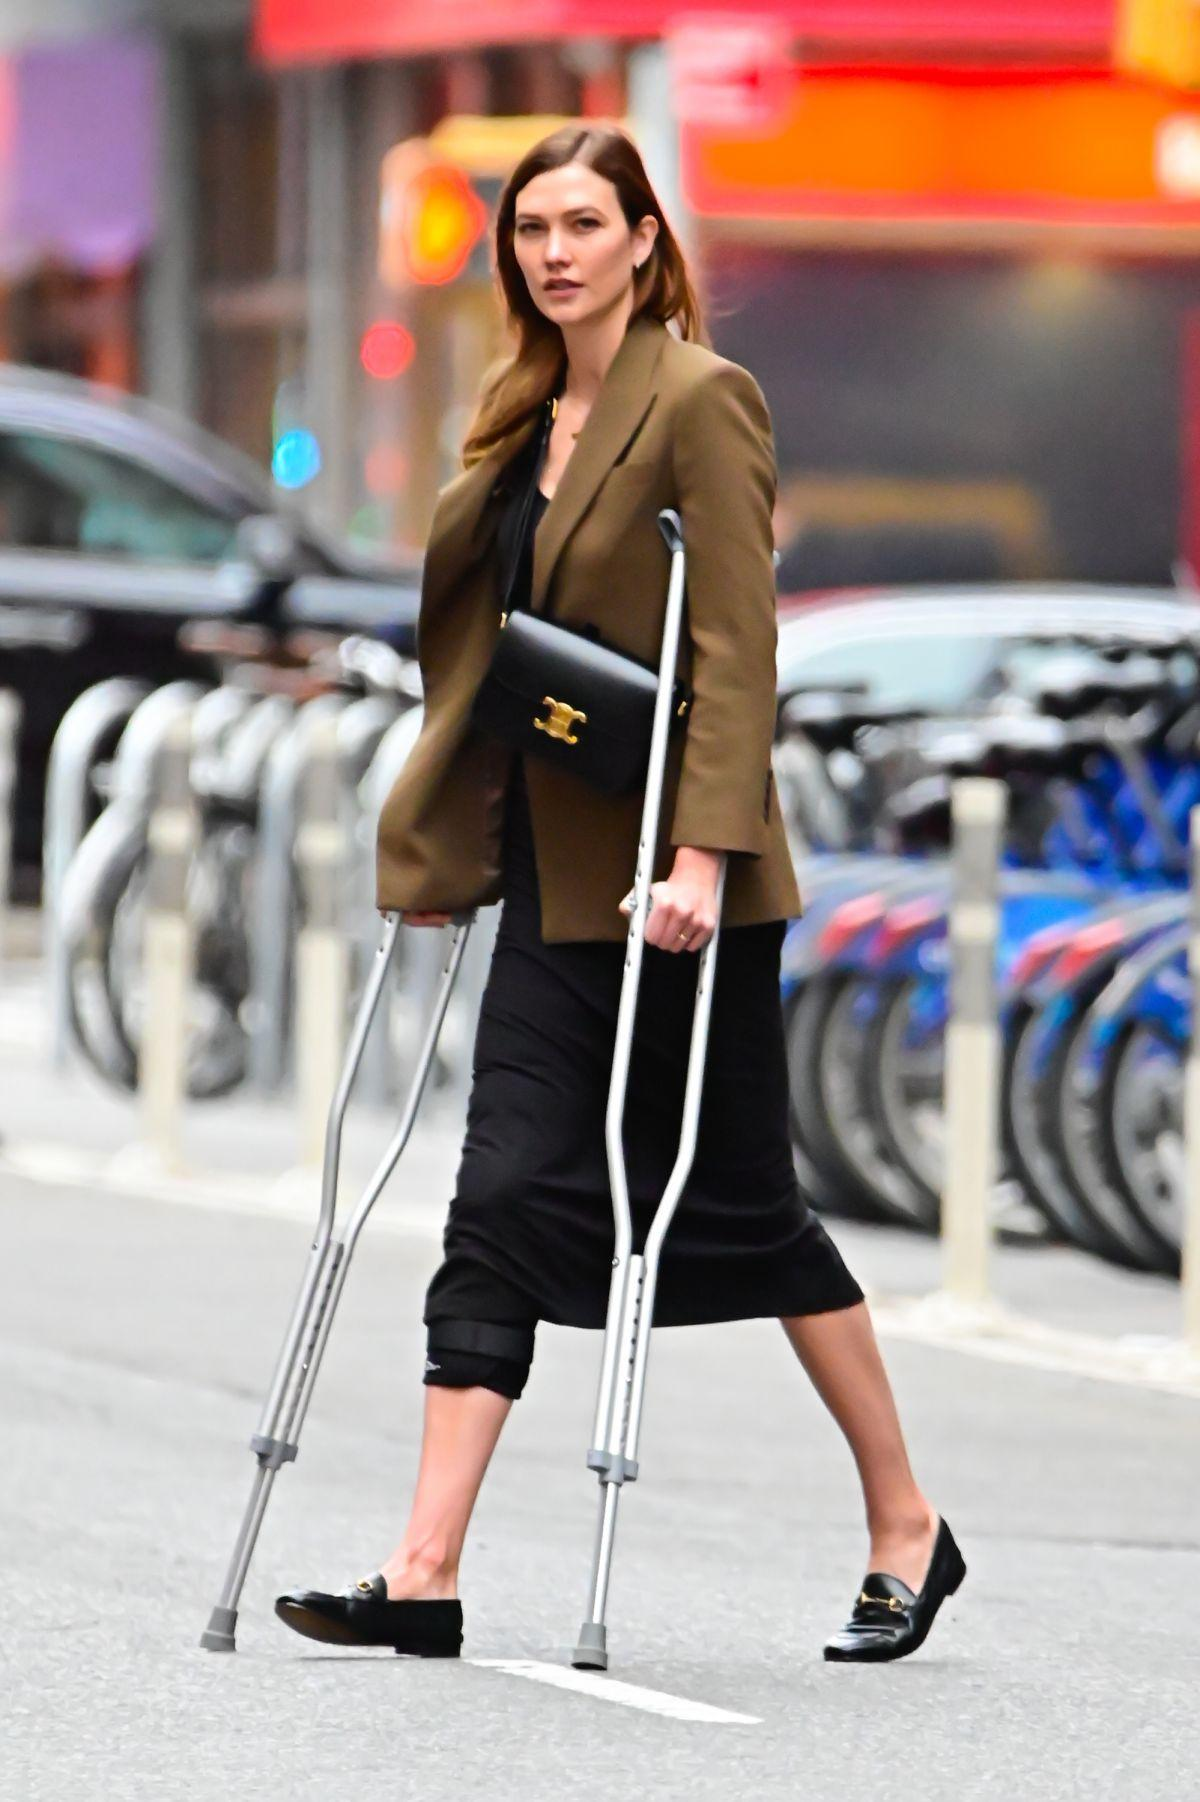crutches: (196, 127, 966, 1672)
